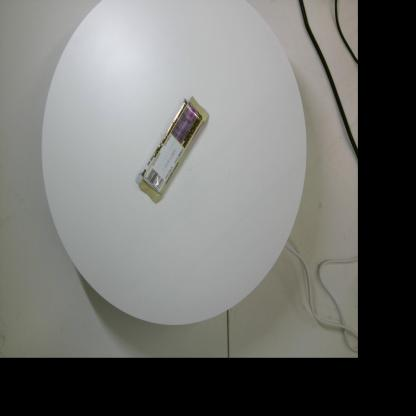Chocolate: (136, 96, 210, 204)
